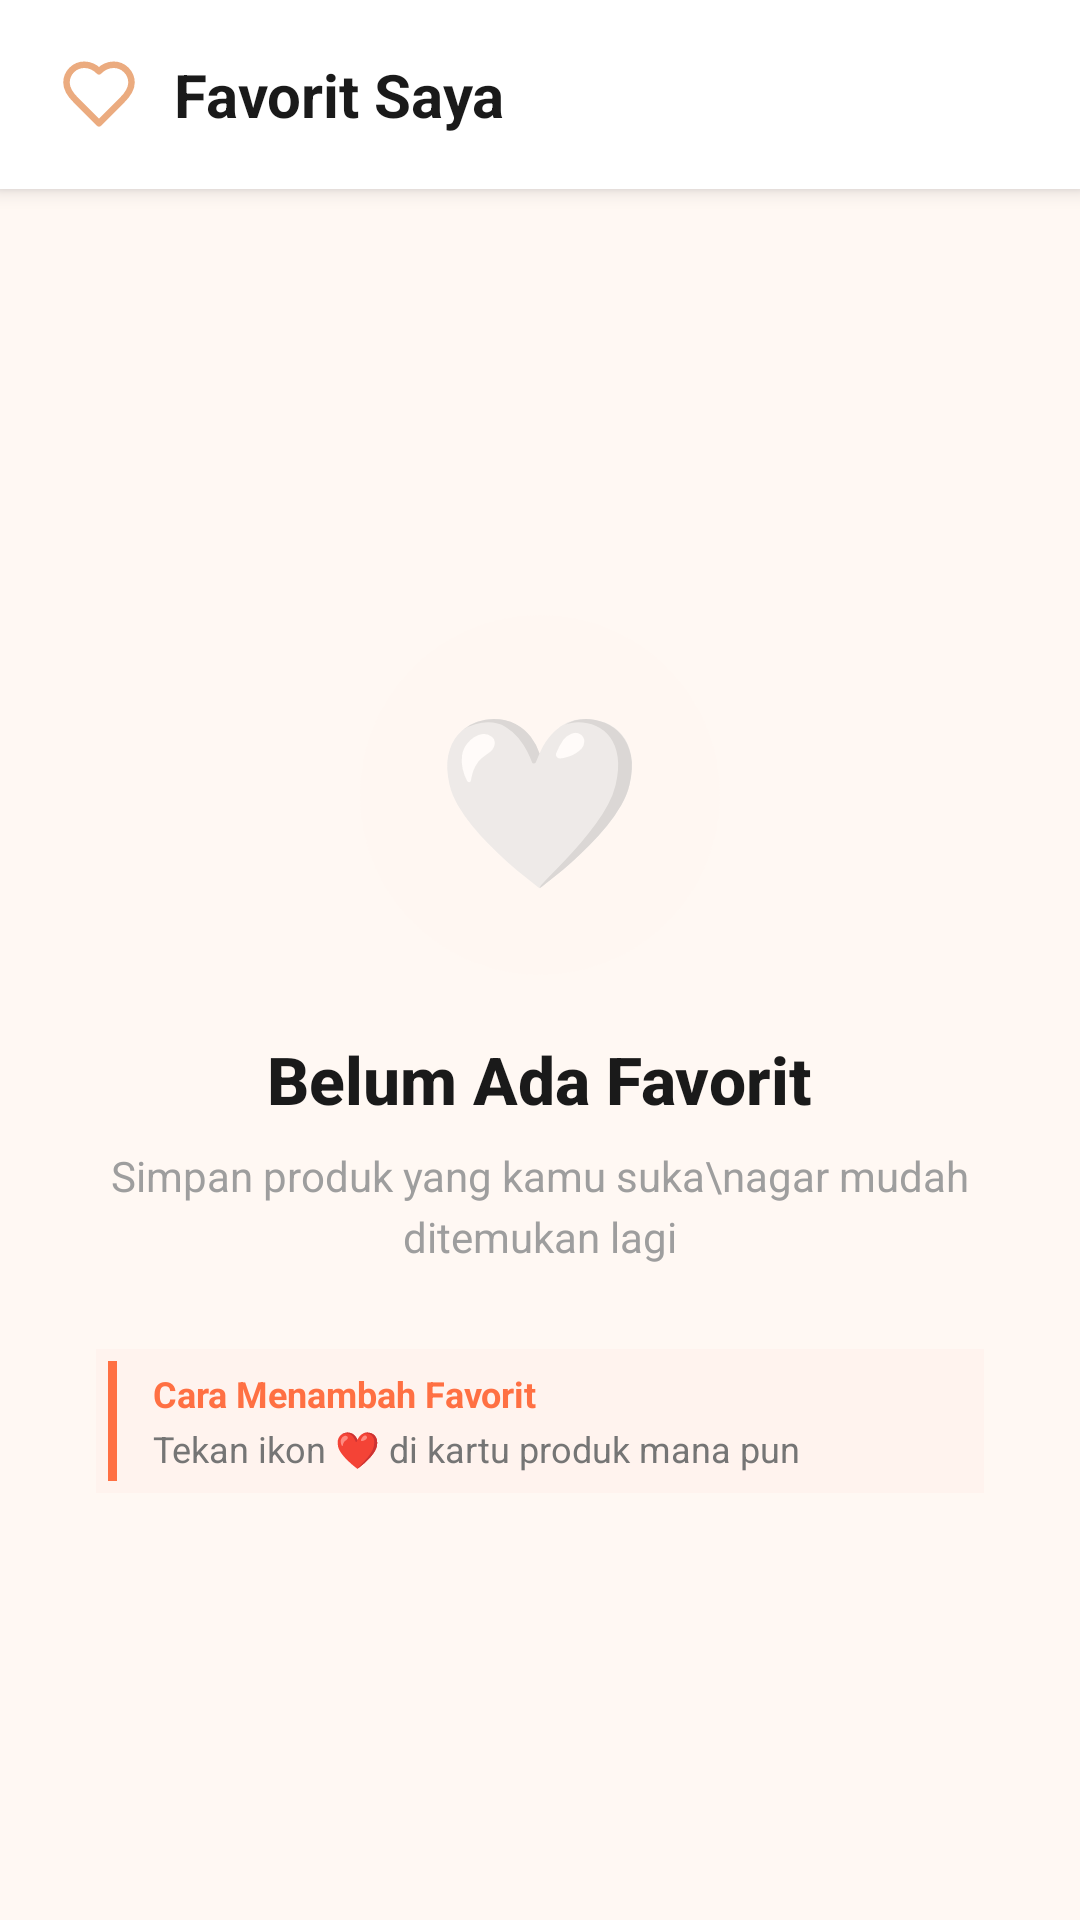

Icon click points for this 1080 × 1920 phone screenshot, format (x=x, y=y):
favorite navbar: (x=99, y=94)
